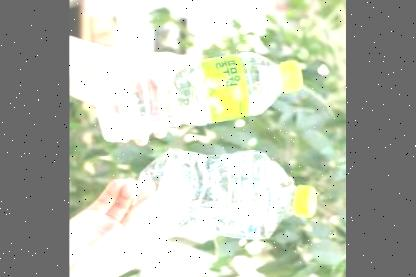Plastic Bottle: (94, 53, 302, 141), (139, 150, 318, 239)
